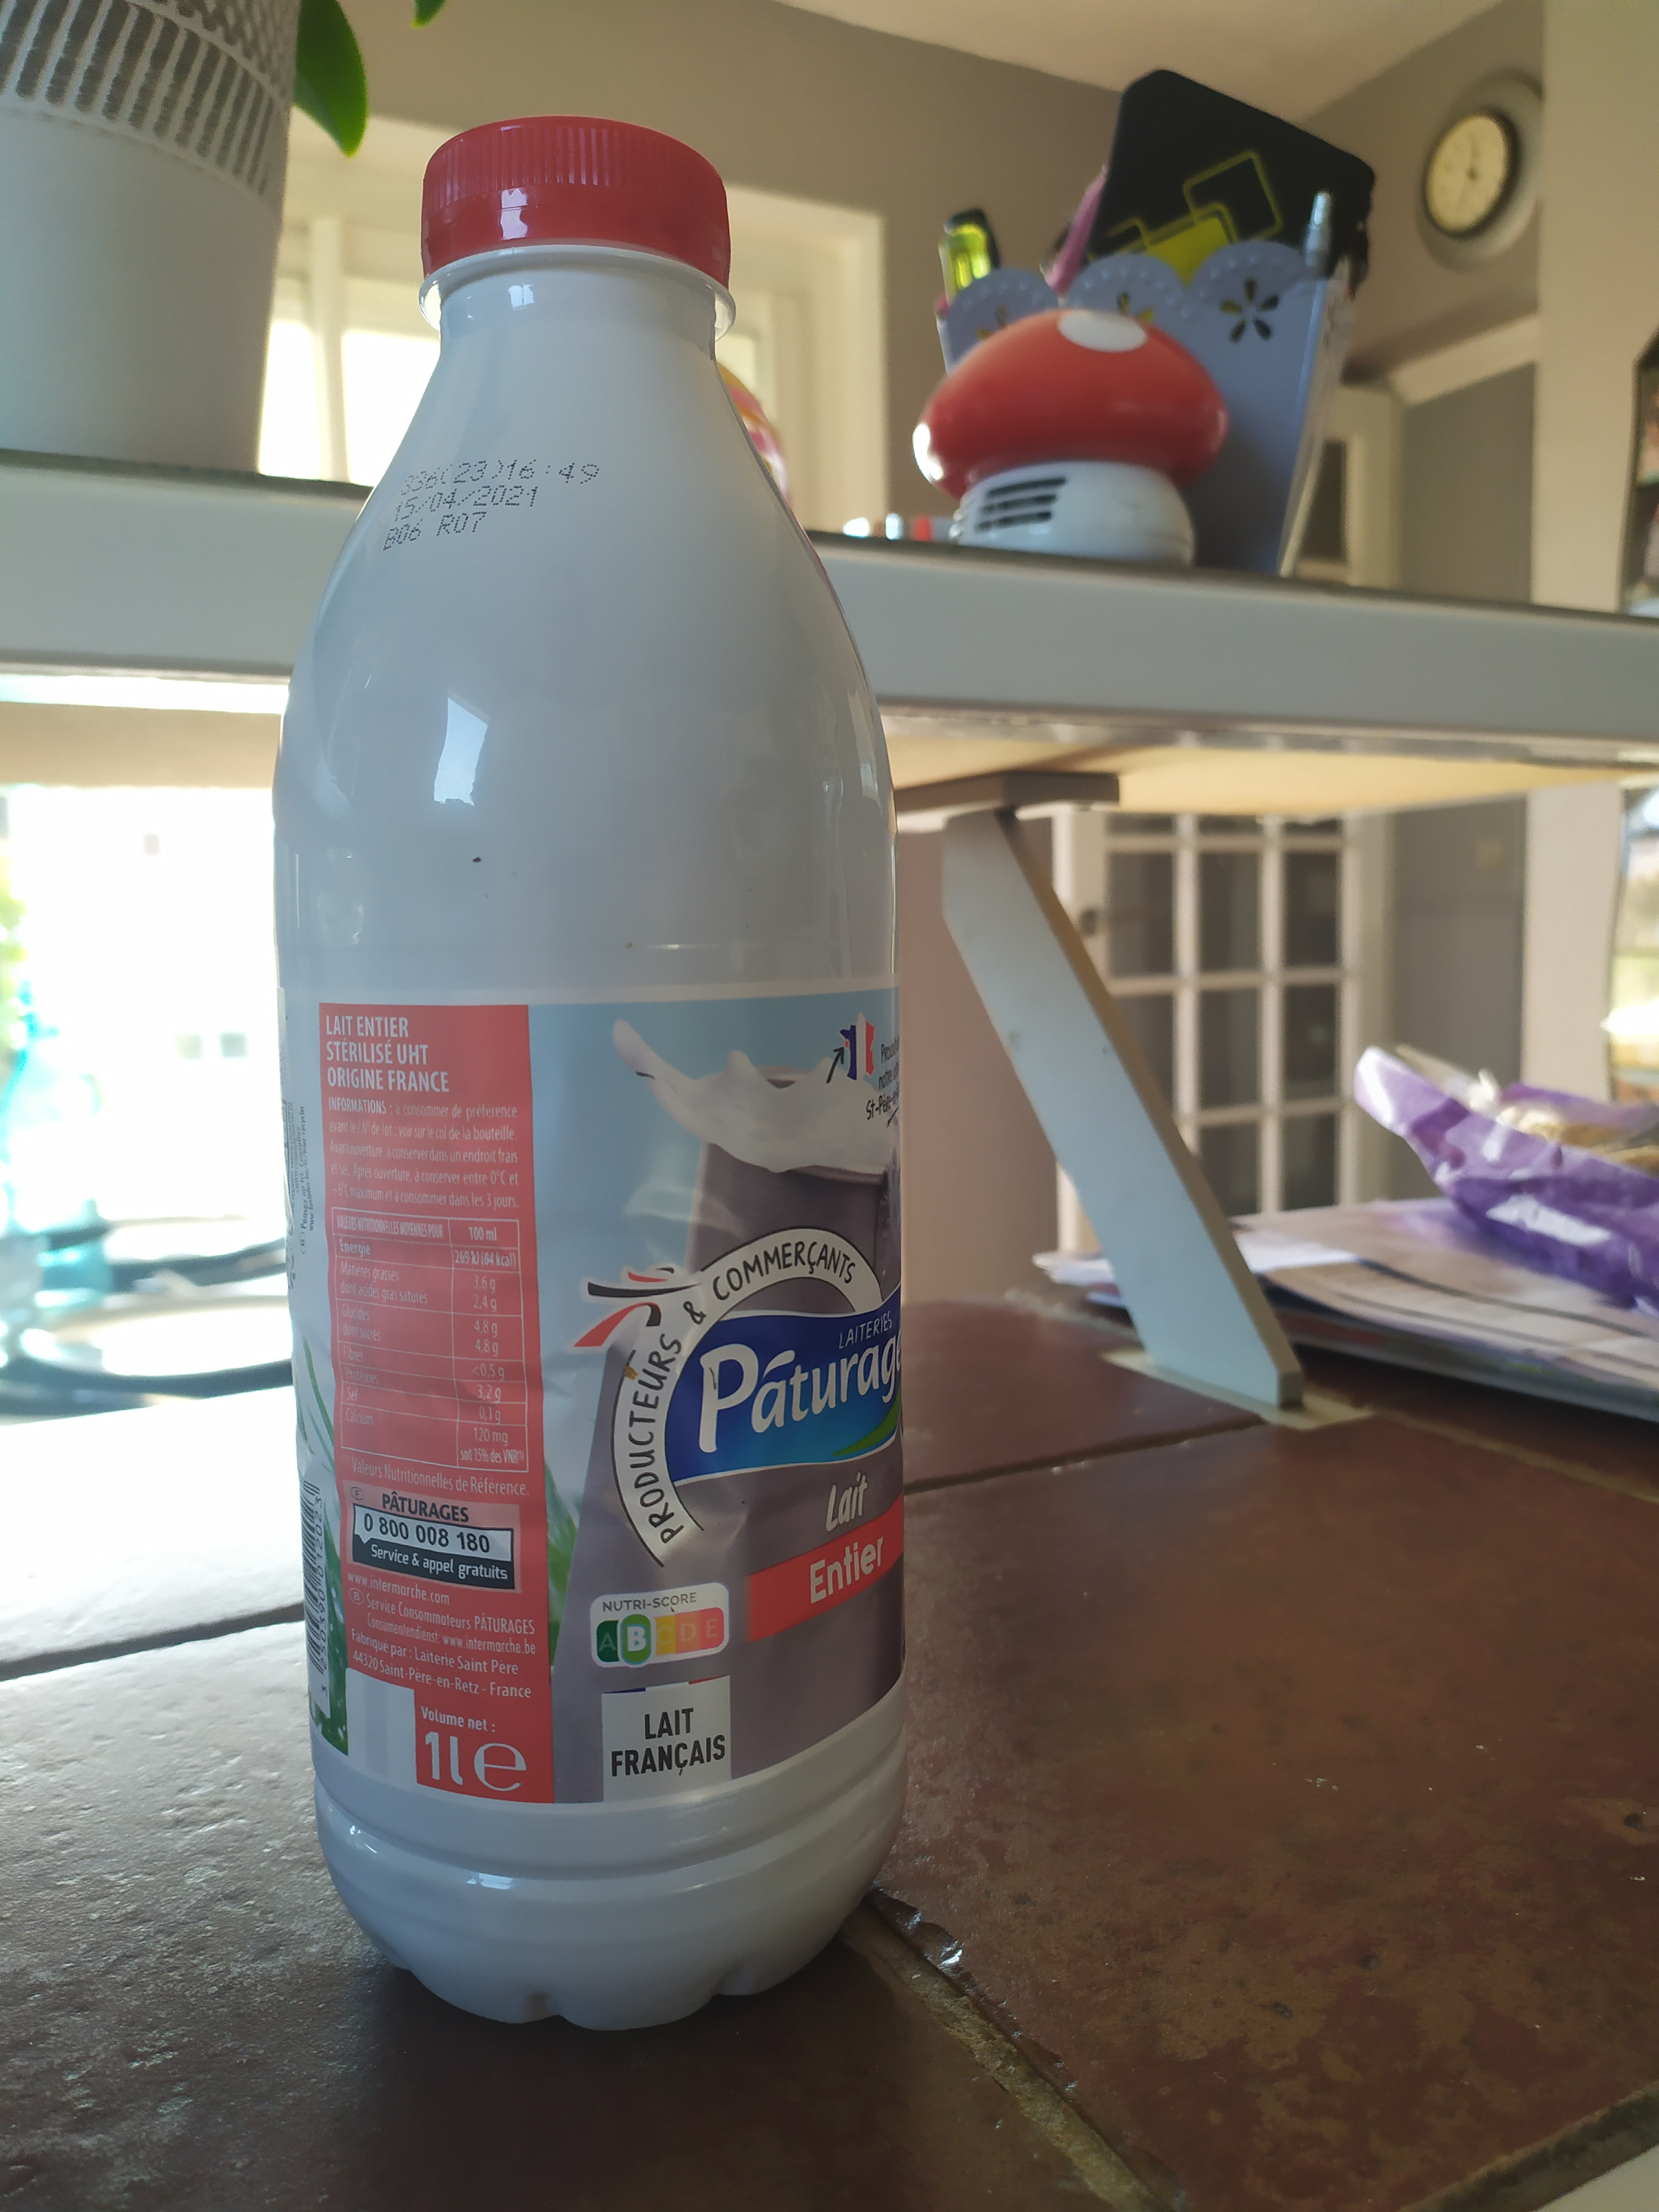milk: (261, 113, 939, 2008)
